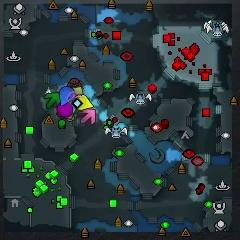p1: (59, 86, 76, 105)
p3: (56, 102, 74, 117)
p4: (74, 95, 94, 110)
x1: (80, 109, 96, 125)
x2: (73, 86, 83, 95)
x4: (44, 92, 61, 109)
